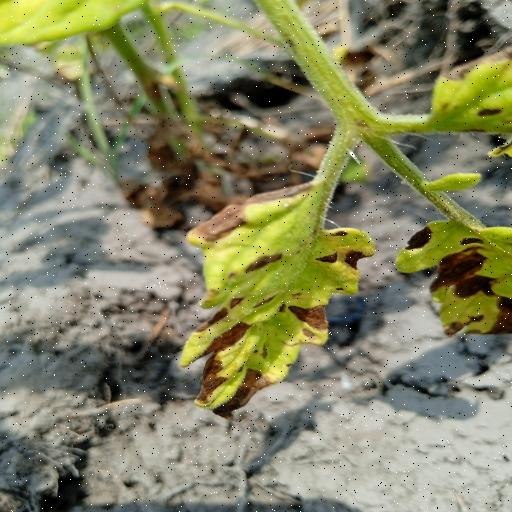Tomato_Brown_Spots: (173, 180, 378, 418), (384, 212, 512, 340)
